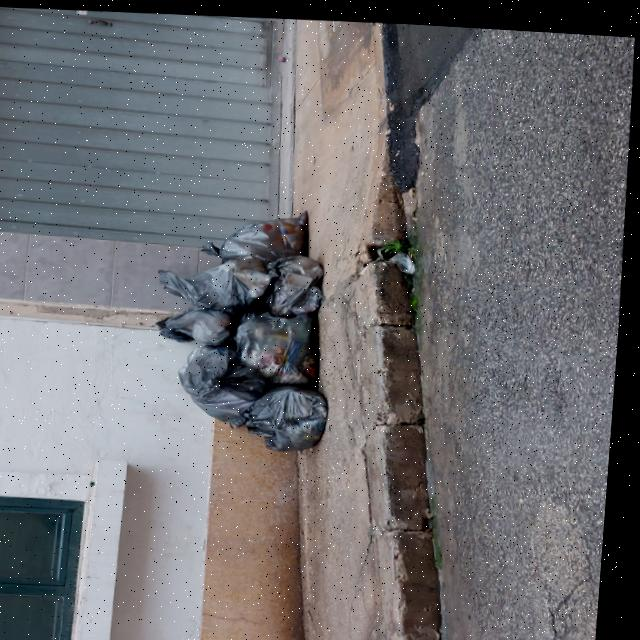Mixed Waste -Black Bag-: (183, 345, 275, 427), (238, 305, 329, 384), (168, 251, 278, 312), (220, 200, 317, 266), (251, 378, 336, 450), (155, 302, 248, 346), (275, 246, 334, 312)
